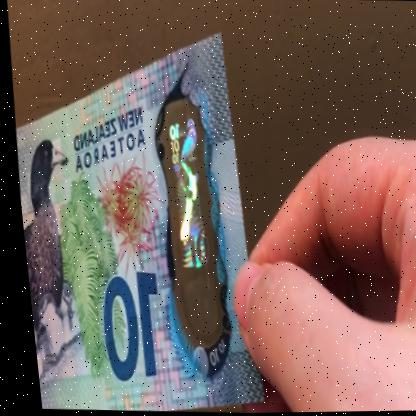10F: (155, 109, 217, 334)
